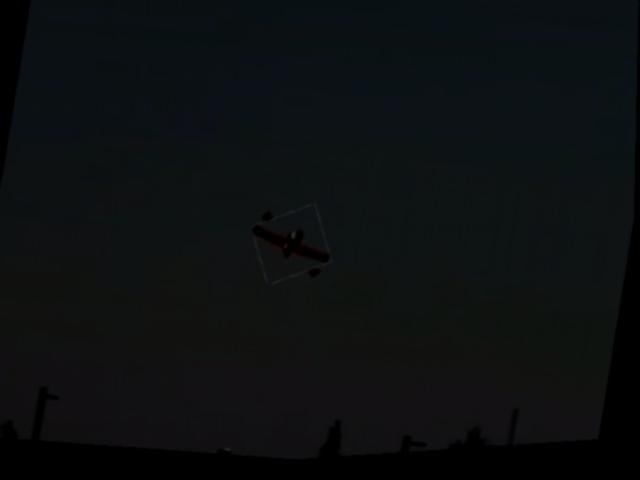insansiz-hava-araci: (250, 206, 335, 293)
